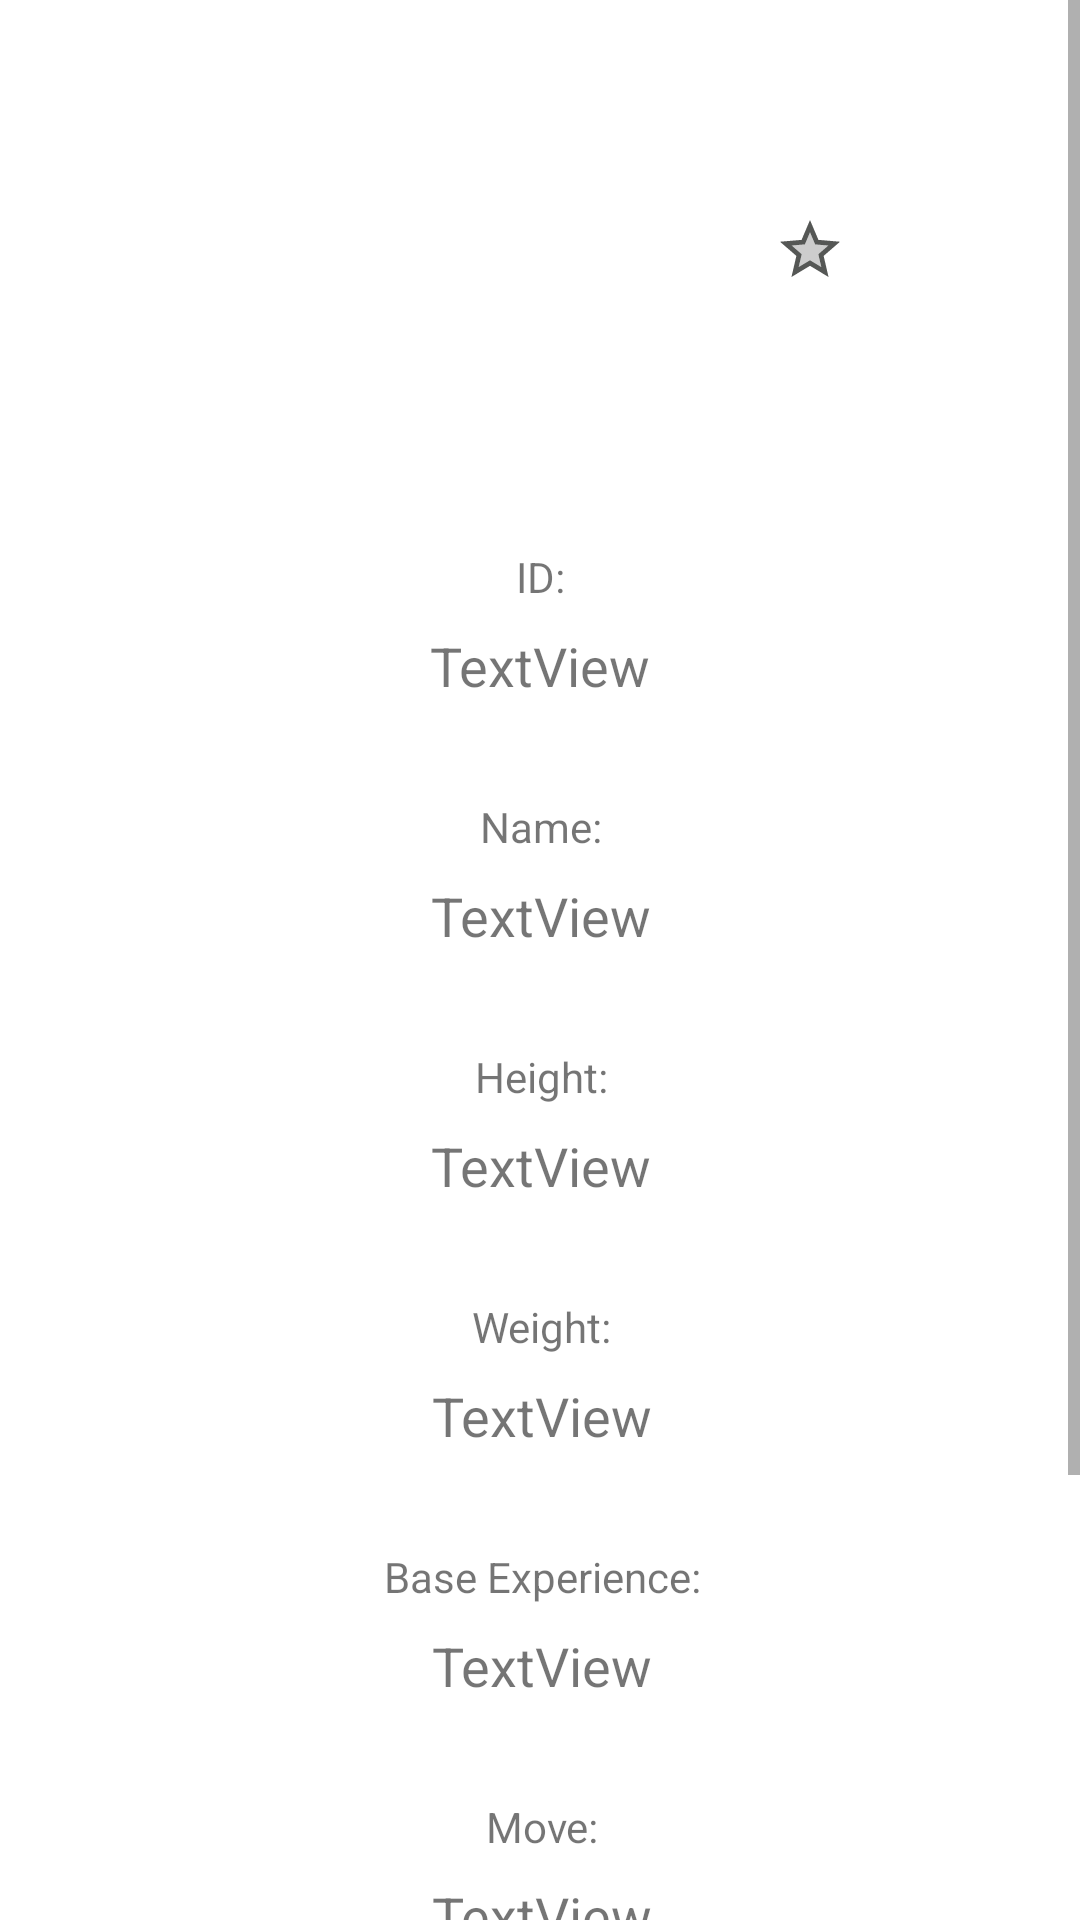

Locate icon controls on the screen. Image size 1080*1920, boxes as (x1, y1, x2, y2).
star: (780, 220, 840, 277)
